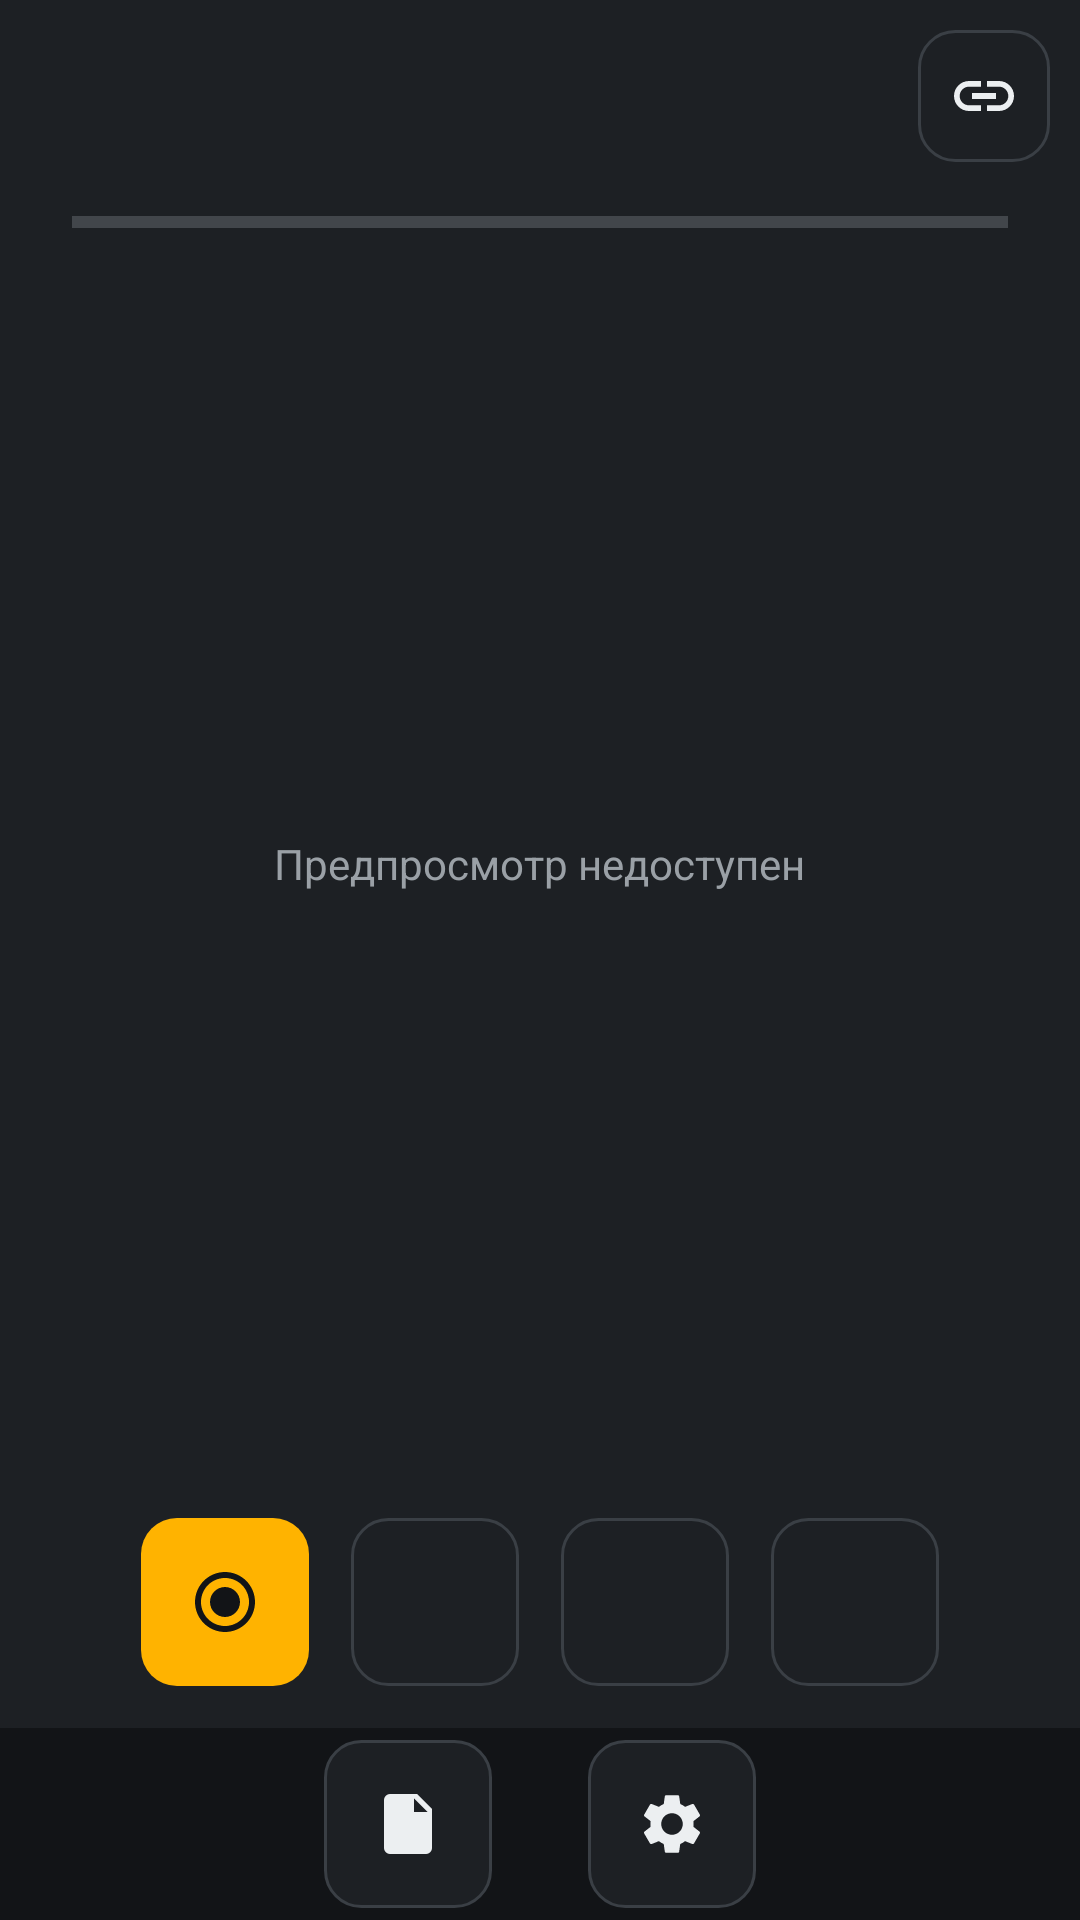

Icons on this 1080 × 1920 Android screen, each with its box as (x1, y1, x2, y2):
Журнал: (324, 1740, 492, 1908)
Настройки приложения: (588, 1740, 756, 1908)
Подключиться: (918, 30, 1050, 162)
Старт: (141, 1518, 309, 1686)
